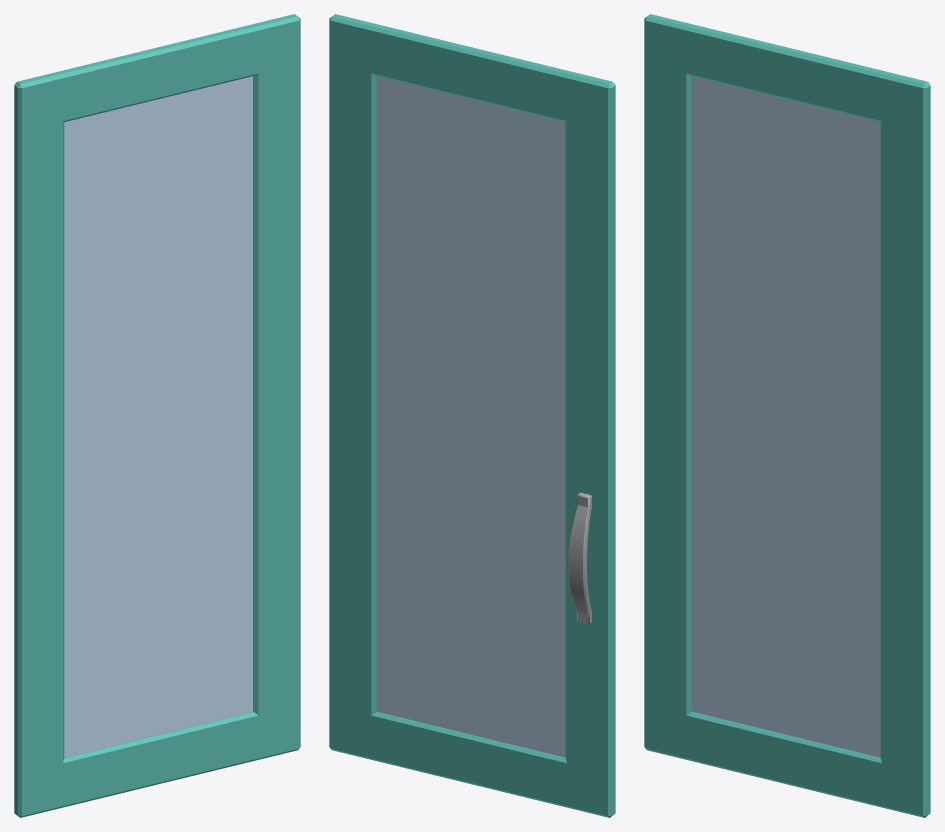
File: Bookcase_door.fbx
3 renders of one model, left to right at view 1: azimuth 30°, elevation 25°; view 2: azimuth 150°, elevation 25°; view 3: azimuth 330°, elevation 25°, orthographic.
Visible parts, largest first — view 1: Bookcase_door; view 2: Bookcase_door; view 3: Bookcase_door.
Boxes of the visible parts, left/top/right/bottom form: Bookcase_door: left=14, top=14, right=300, bottom=817; Bookcase_door: left=329, top=14, right=615, bottom=817; Bookcase_door: left=644, top=14, right=930, bottom=817.
Bounding box in the file's own units: 0.4975 × 1.23 × 0.053.
